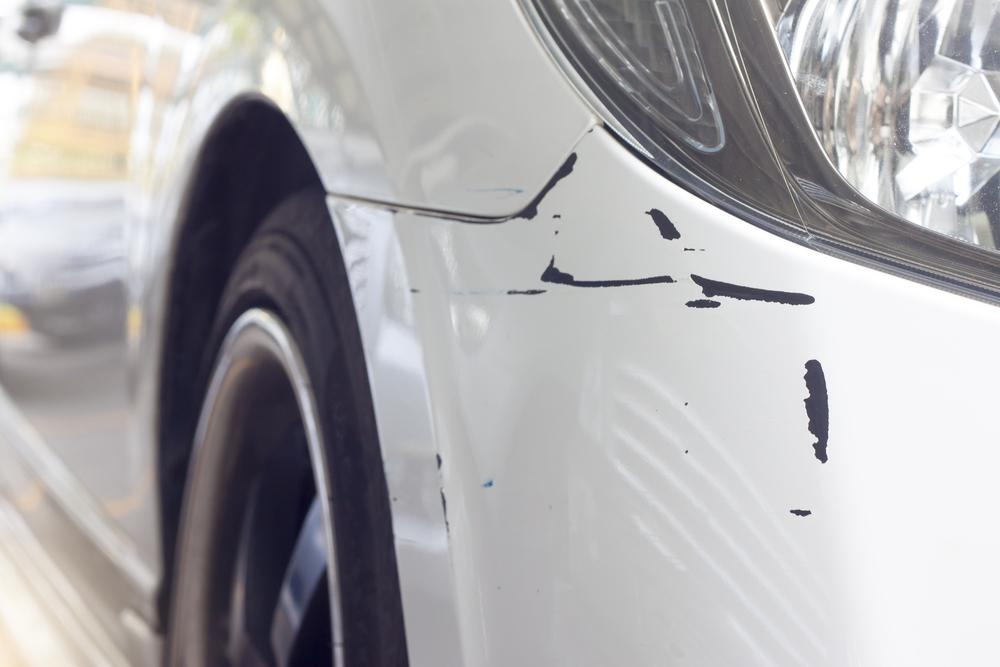scratch: (486, 139, 838, 471)
